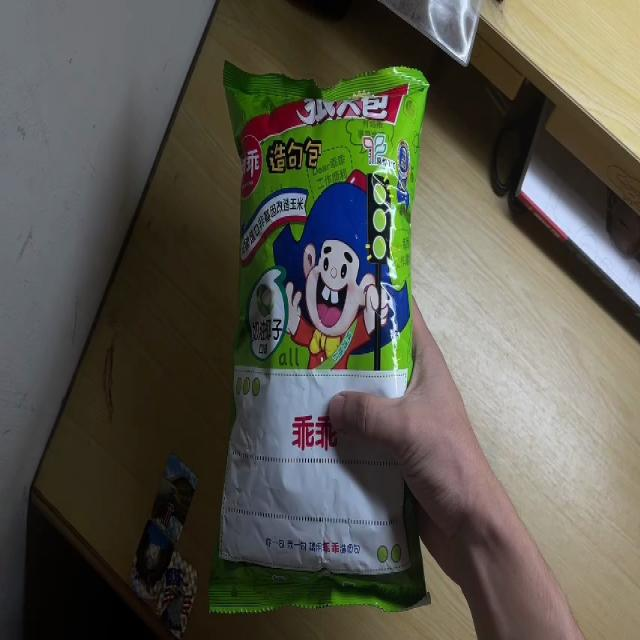Good-Luck: (207, 59, 433, 608)
